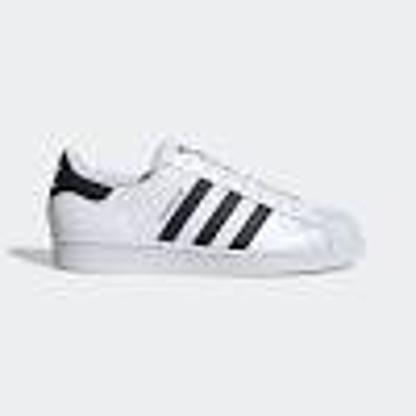not trash: (44, 136, 366, 276)
